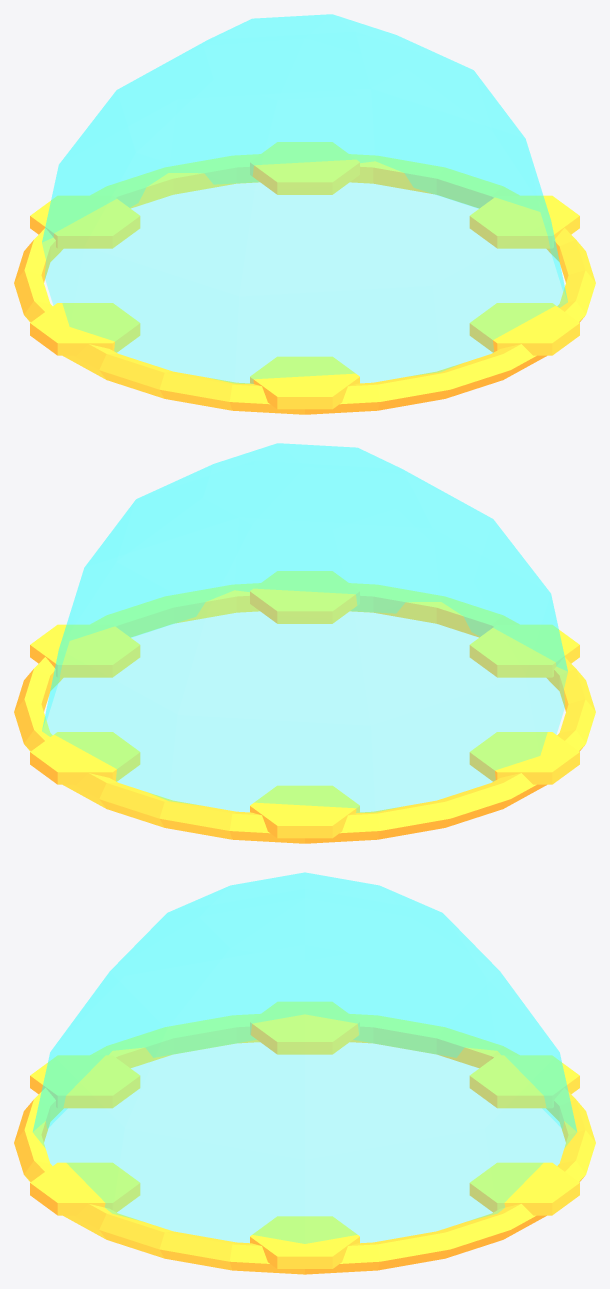
File: aegis-s1-fx.glb
The picture shows the model from 3 angles, top to bottom: view 1: azimuth 30°, elevation 25°; view 2: azimuth 150°, elevation 25°; view 3: azimuth 270°, elevation 25°; orthographic projection.
Parts seen in each view (by area): view 1: dome, base-ring, plate-5, plate-0, plate-4, plate-2, plate-1, plate-3; view 2: dome, base-ring, plate-1, plate-0, plate-2, plate-4, plate-3, plate-5; view 3: dome, base-ring, plate-3, plate-2, plate-4, plate-1, plate-5, plate-0.
Part boxes in pixels (x1,y1,x2,y2): dome: (42, 14, 567, 383); base-ring: (14, 154, 595, 414); plate-5: (250, 142, 359, 194); plate-0: (469, 195, 579, 248); plate-4: (30, 195, 140, 248); plate-2: (250, 356, 359, 409); plate-1: (469, 303, 579, 355); plate-3: (30, 303, 140, 355); dome: (42, 443, 567, 812); base-ring: (14, 583, 595, 843); plate-1: (250, 571, 359, 623); plate-0: (30, 624, 140, 677); plate-2: (469, 624, 579, 677); plate-4: (250, 785, 359, 838); plate-3: (469, 732, 579, 784); plate-5: (30, 732, 140, 784); dome: (33, 872, 576, 1243); base-ring: (14, 1014, 595, 1274); plate-3: (250, 1001, 359, 1054); plate-2: (30, 1055, 140, 1108); plate-4: (469, 1055, 579, 1108); plate-1: (30, 1162, 140, 1215); plate-5: (469, 1162, 579, 1215); plate-0: (250, 1216, 359, 1268).
Size of the model in its own units: 2.19 by 1.03 by 2.11.
